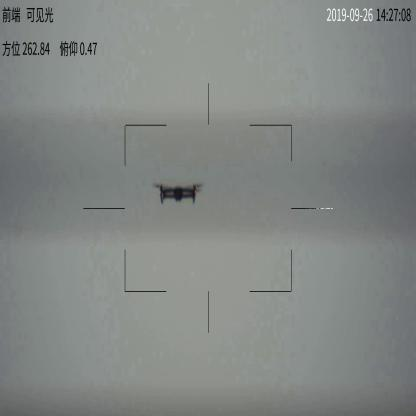uav: (150, 181, 208, 203)
